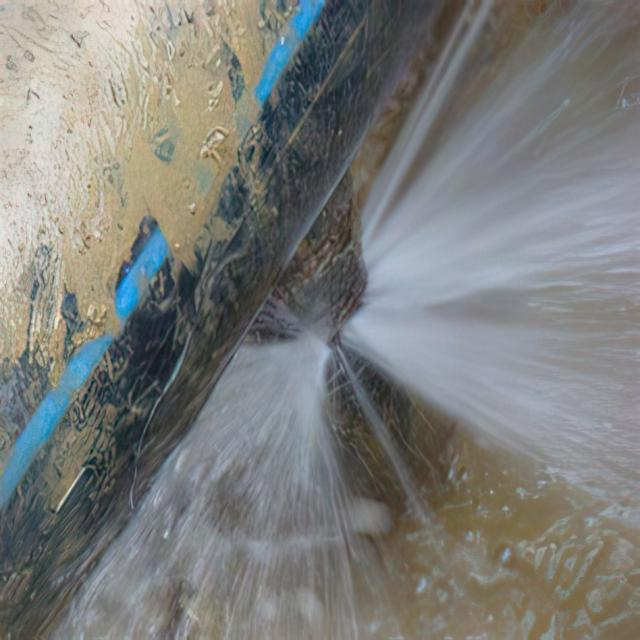leak: (342, 4, 640, 526), (58, 334, 358, 638)
